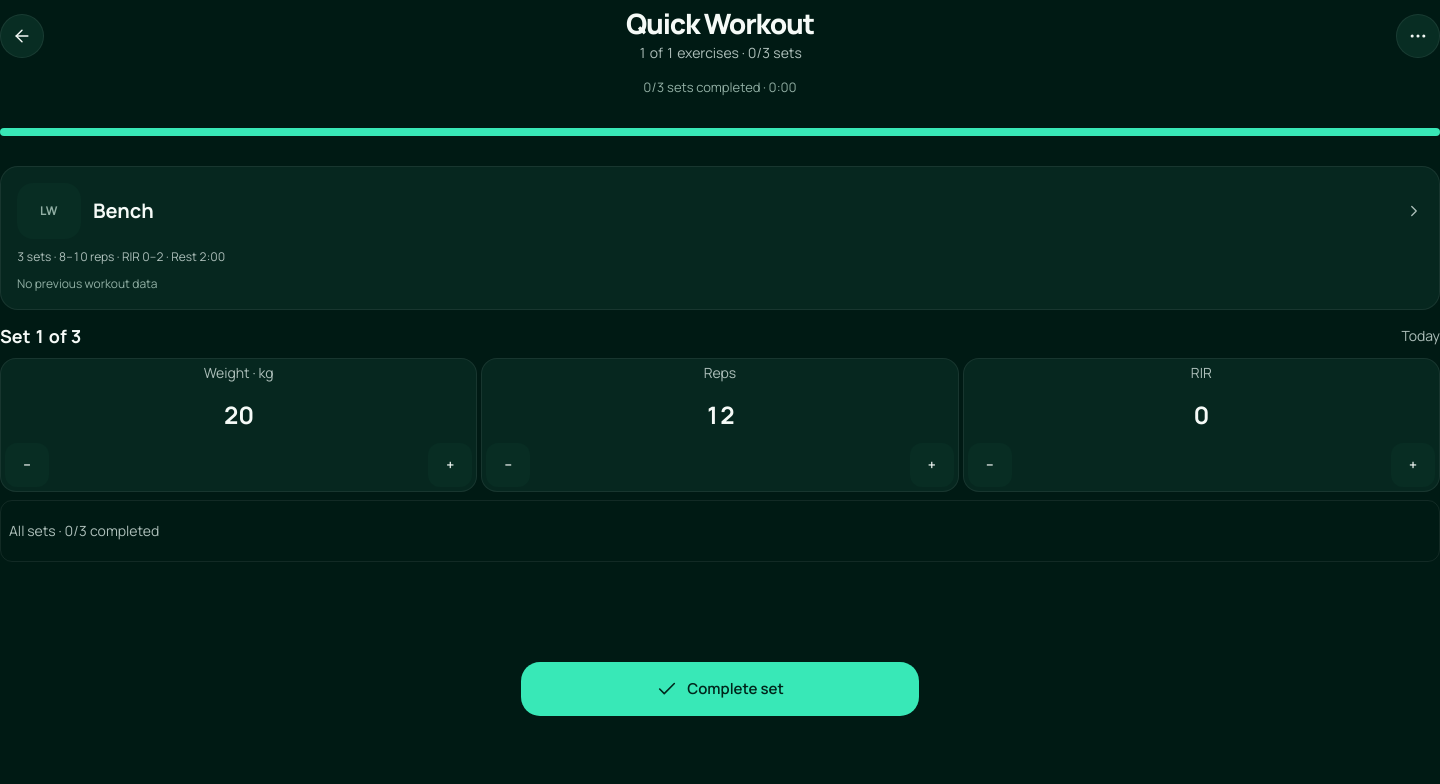
Test case: canonical workout V2 journey › completes once, restores Rest from storage, extends it, edits the next canonical set and starts without logging it
Expected: the heading "Quick Workout" is shown, [626,4,814,42]
Click the button "Complete set" at {"x": 720, "y": 689}, box [521,662,919,716]
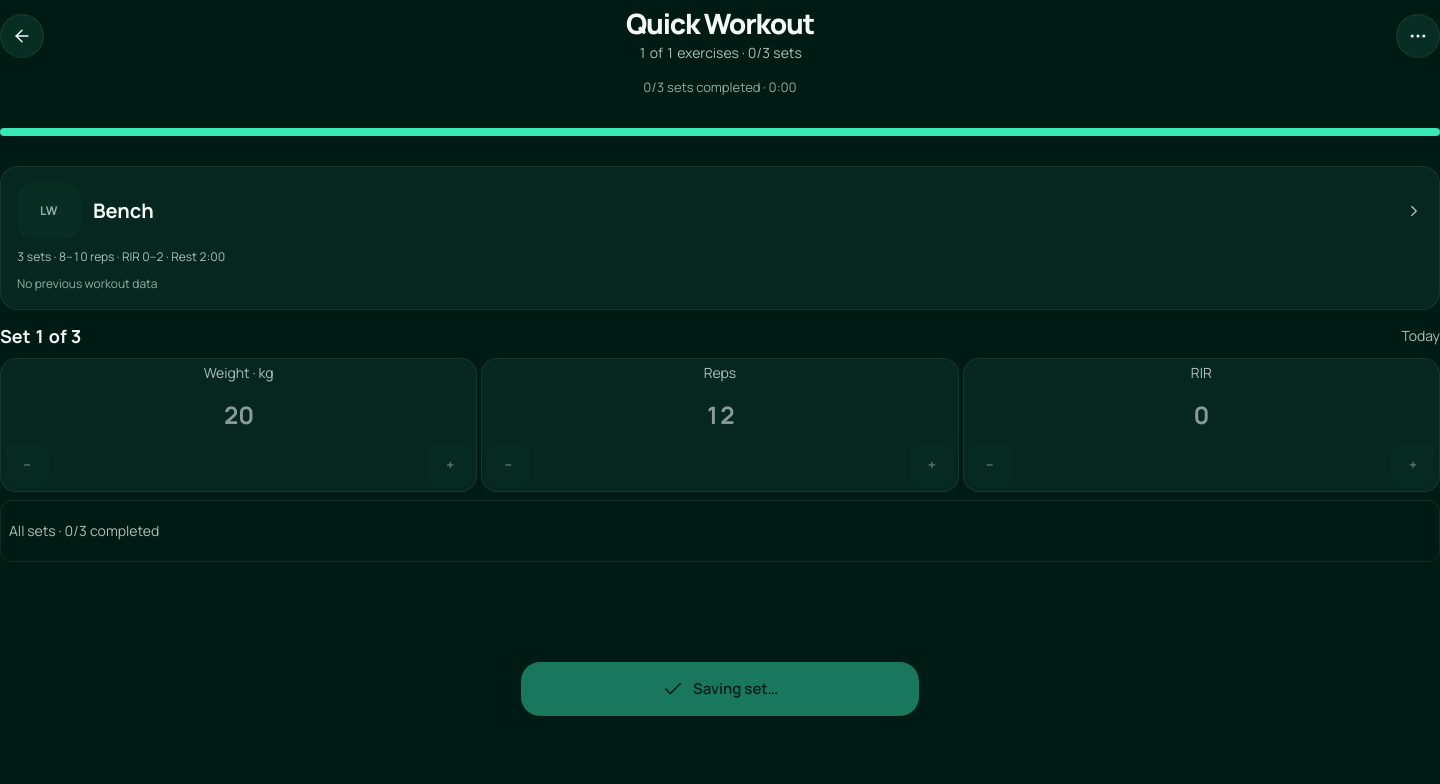
Click the button named "Complete set" at {"x": 720, "y": 689}, box [521,662,919,716]
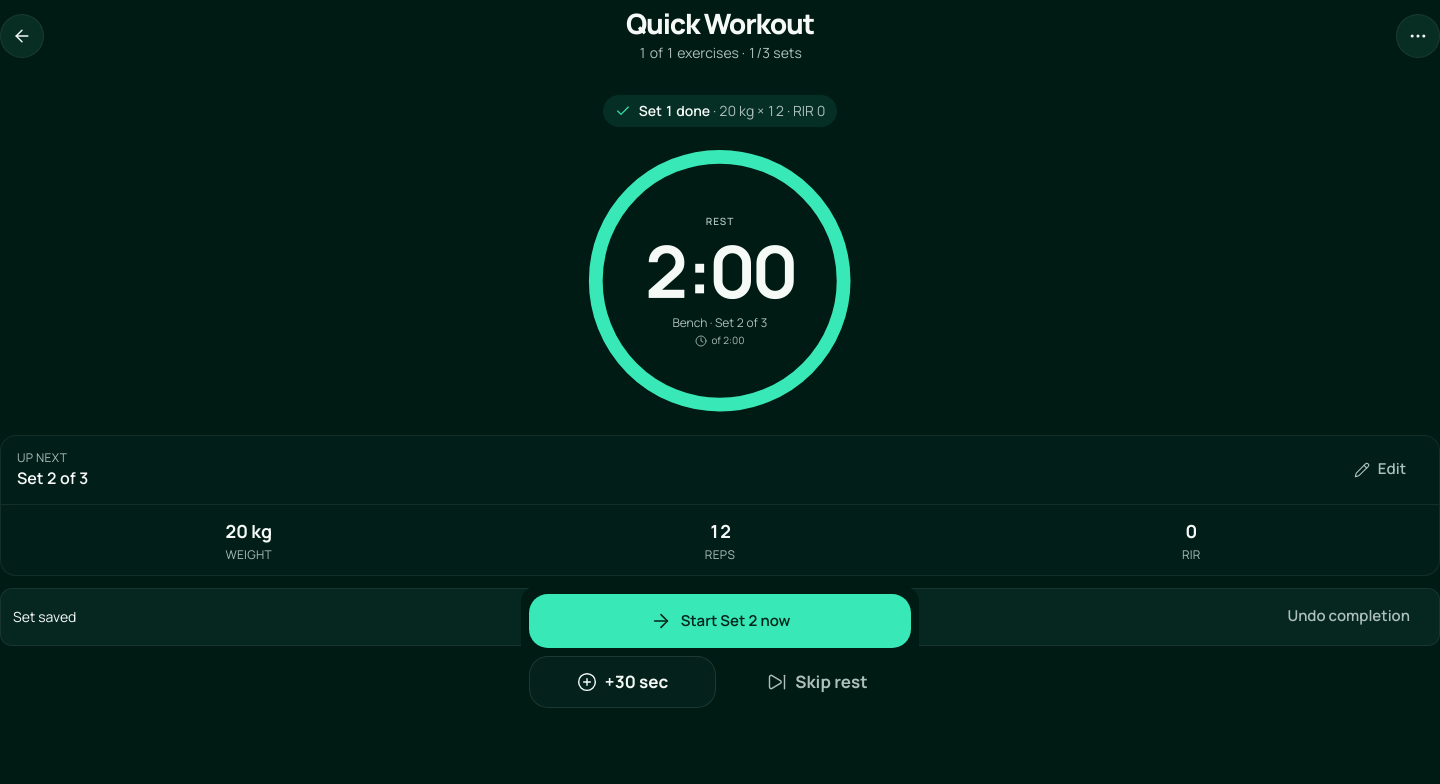
Expected: the button "Complete set" is not shown
Expected: the element named "Rest timer" is shown
Click the button "+30 sec" at {"x": 622, "y": 682}, box [529,656,716,708]
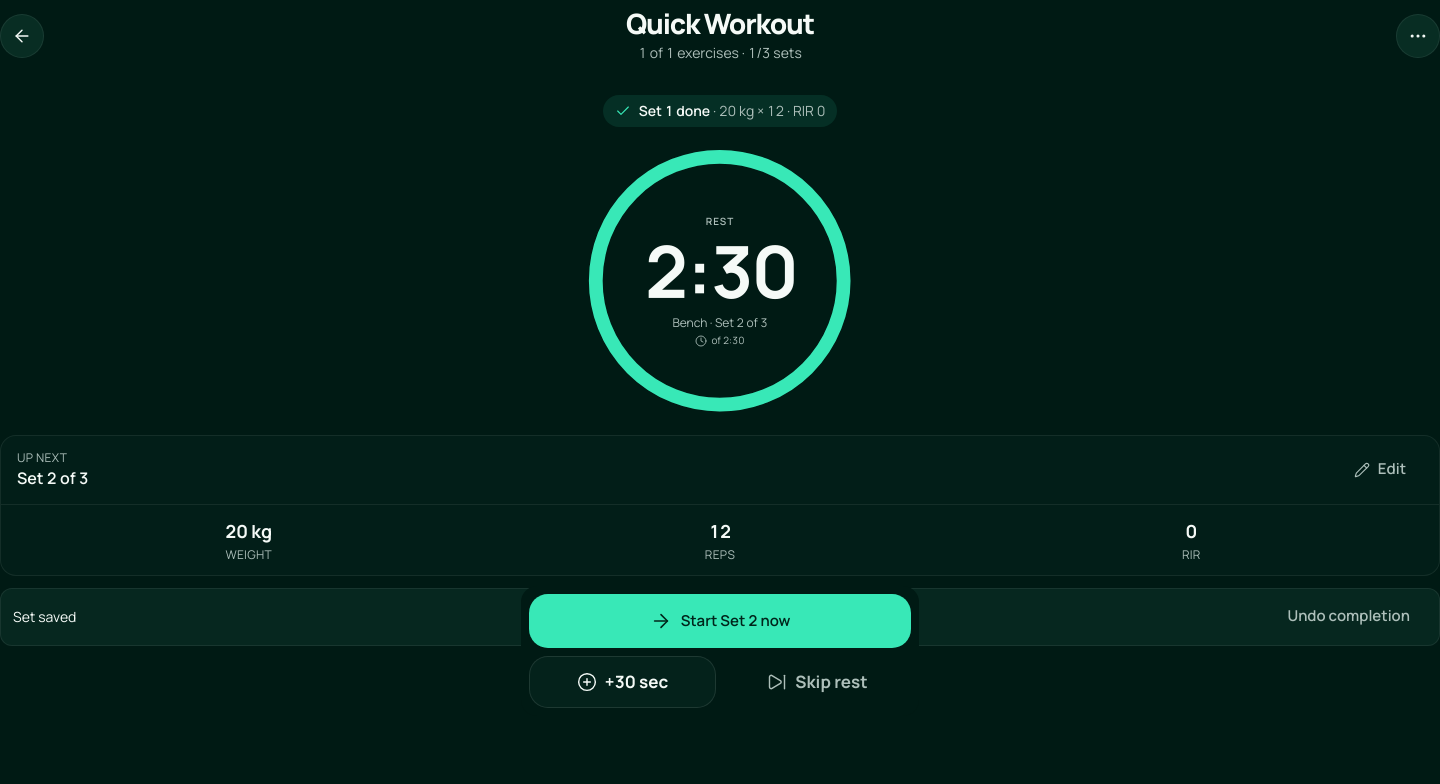
Expected: the button "Edit" is enabled
Click the button "Edit" at {"x": 1380, "y": 470}, box [1337,446,1423,494]
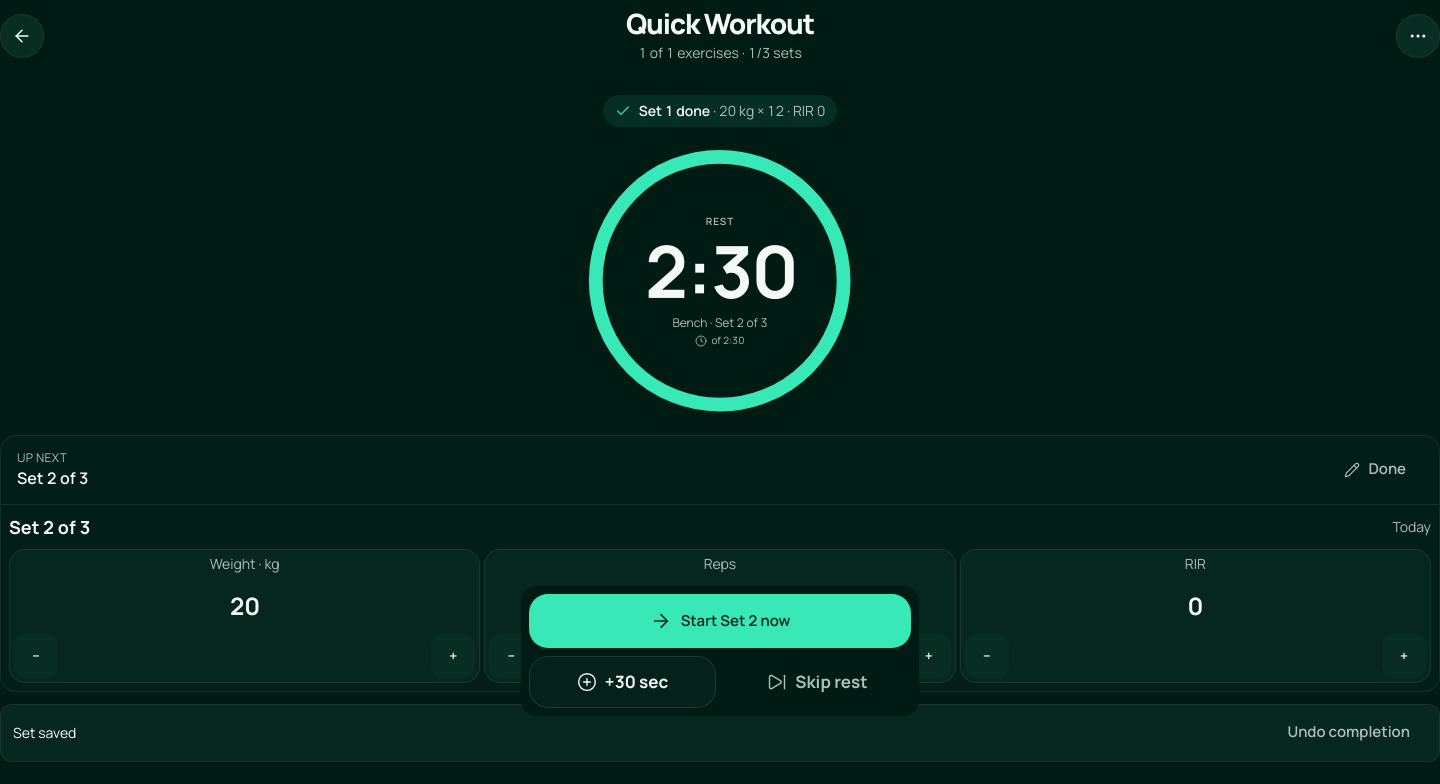
Replace the text in the field named "Set 2 weight" with "22.5" at {"x": 245, "y": 606}, box [10,582,479,630]
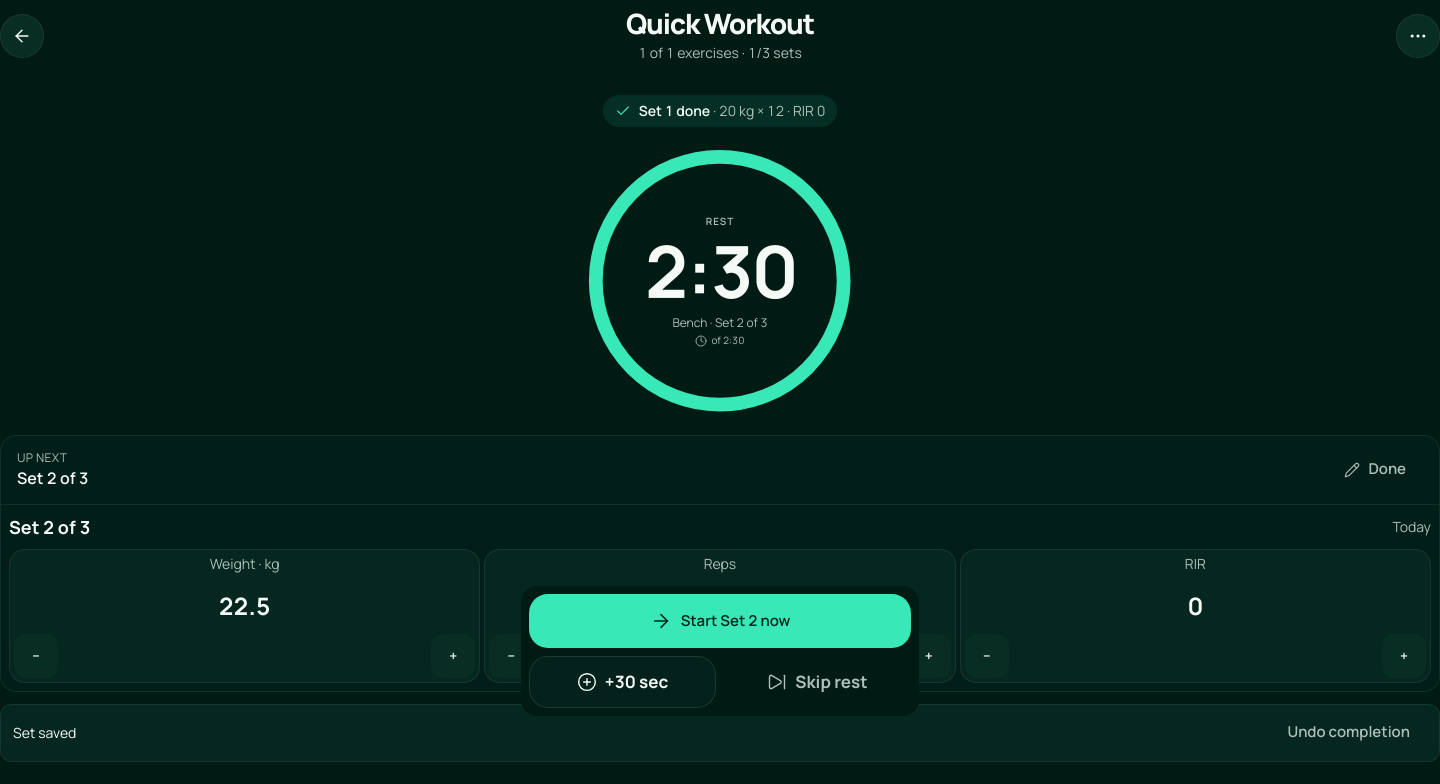
Expected: the button "Start Set 2 now" is enabled
Click the button "Start Set 2 now" at {"x": 720, "y": 621}, box [529,594,911,648]
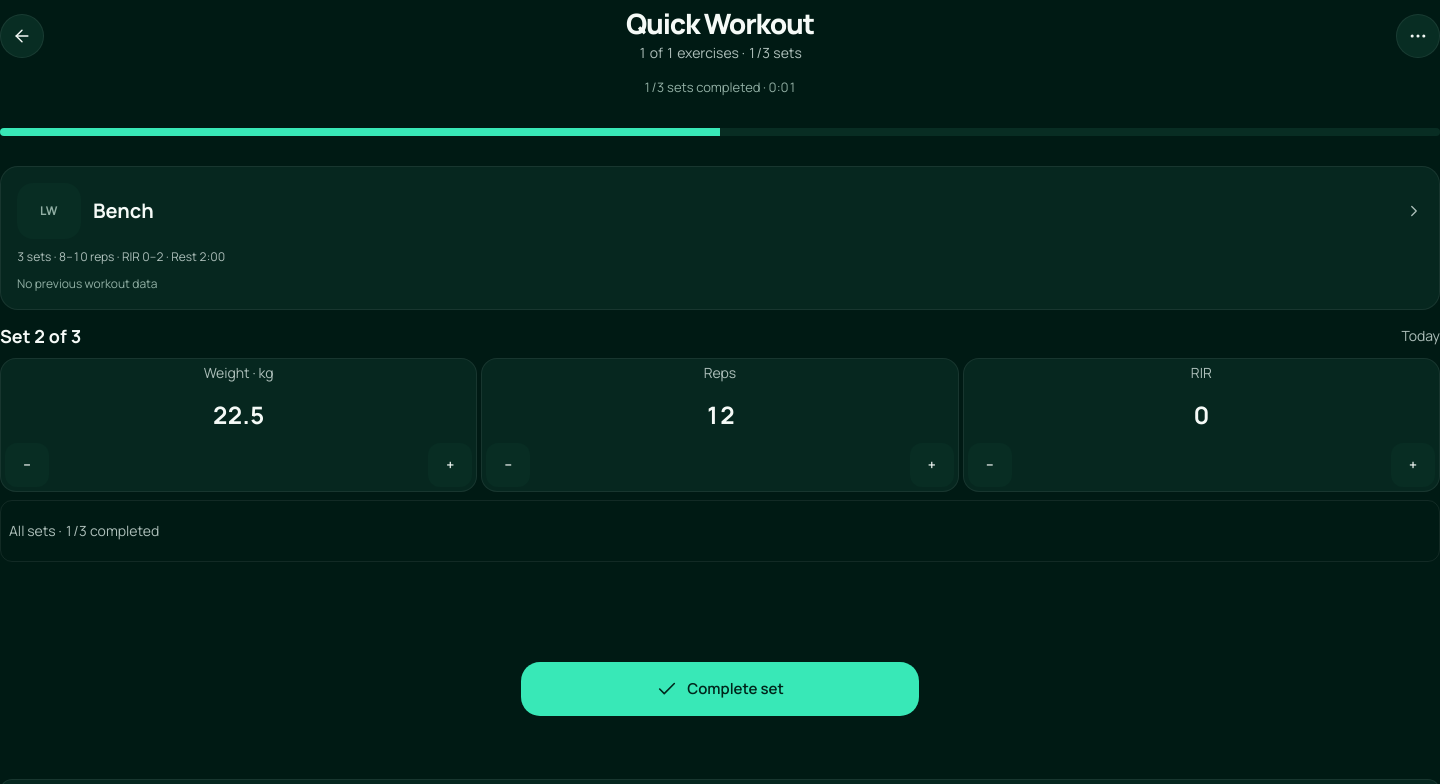
Expected: the field named "Set 2 weight" holds "22.5", [1,391,476,439]
Expected: the button "Complete set" is shown, [521,662,919,716]
